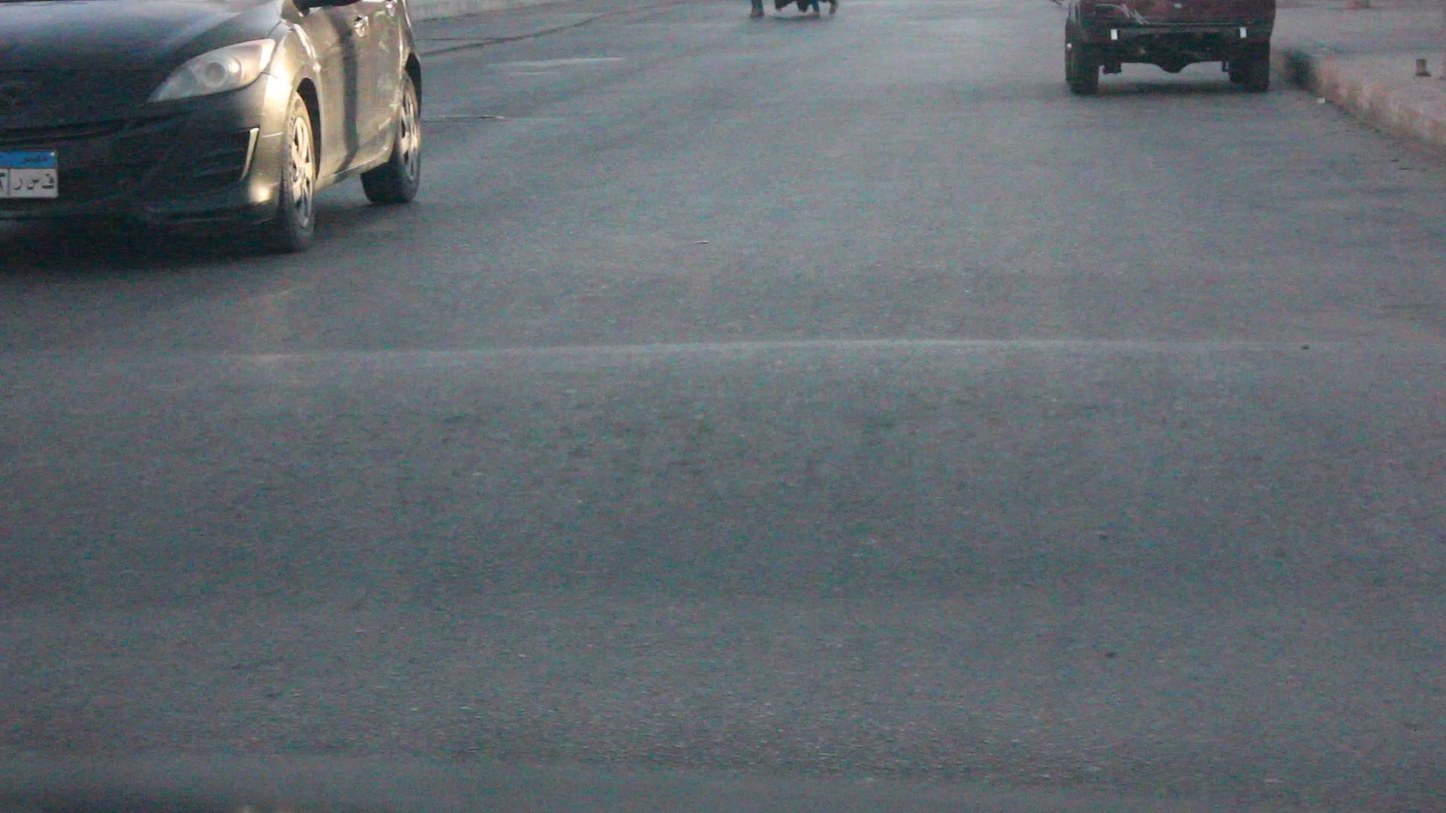Bump: (0, 336, 1445, 629)
